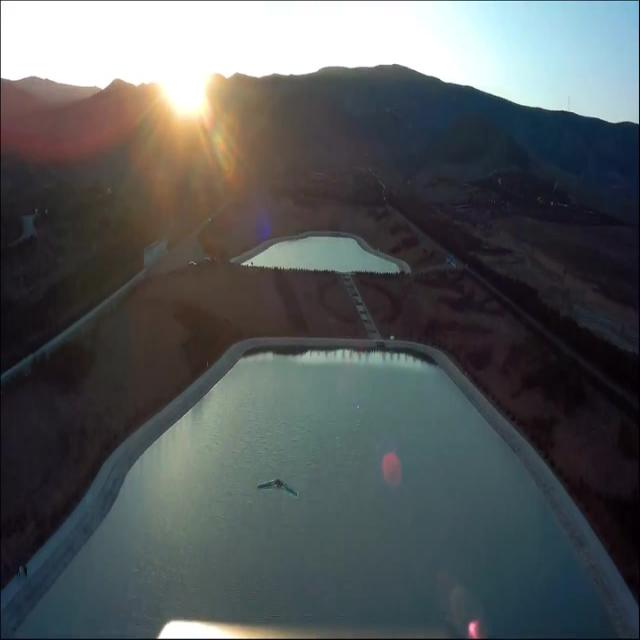iha: (257, 478, 299, 499)
